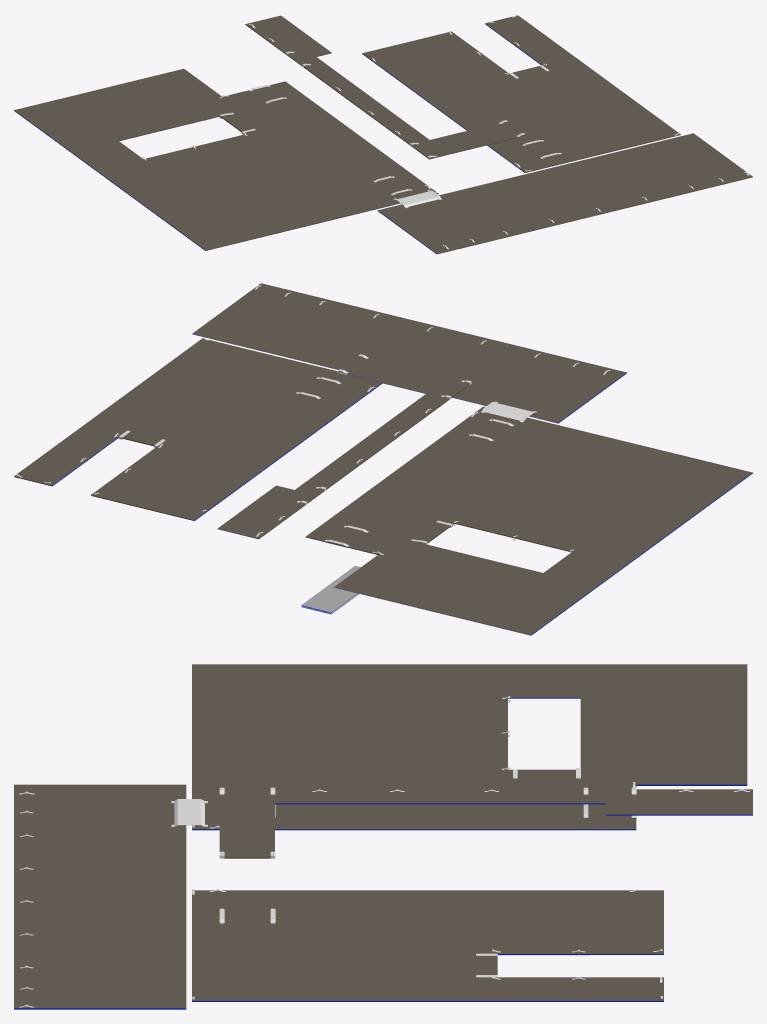
The model's file is Room-FloorGrates.fbx.
3 views of the same model, one above another, from view 1: azimuth 30°, elevation 25°; view 2: azimuth 150°, elevation 25°; view 3: azimuth 270°, elevation 25° (orthographic). The views are drawn at different scales.
Parts seen in each view (by area): view 1: SandwichLayer, RailConnectors, CrossBars, EdgesNormal, StuffingLayer; view 2: SandwichLayer, RailConnectors, CrossBars, StuffingLayer; view 3: SandwichLayer, CrossBars, RailConnectors, EdgesWarning.
Boxes of the visible parts, box(x1,y1,x2,y2) form: SandwichLayer: box(14, 15, 752, 253); RailConnectors: box(143, 14, 749, 249); CrossBars: box(14, 23, 680, 254); EdgesNormal: box(316, 52, 752, 254); StuffingLayer: box(119, 116, 680, 250); SandwichLayer: box(14, 283, 752, 635); RailConnectors: box(16, 285, 610, 554); CrossBars: box(52, 334, 752, 635); StuffingLayer: box(193, 334, 557, 635); SandwichLayer: box(14, 664, 752, 1008); CrossBars: box(14, 697, 752, 1009); RailConnectors: box(19, 696, 749, 1007); EdgesWarning: box(224, 769, 752, 974).
Size of the model in its own units: 1465 by 307 by 1330.
